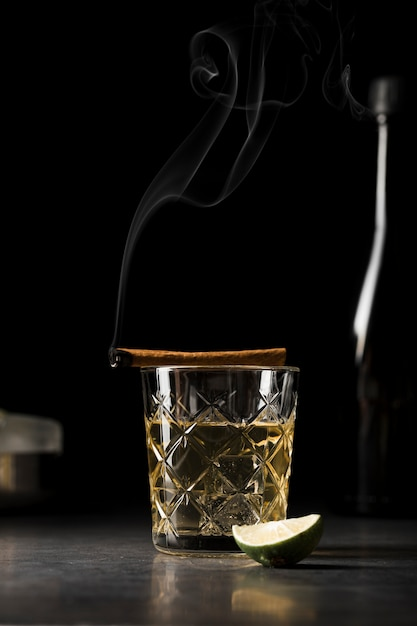alcohol: (132, 363, 309, 546)
cigarette: (105, 341, 294, 369)
